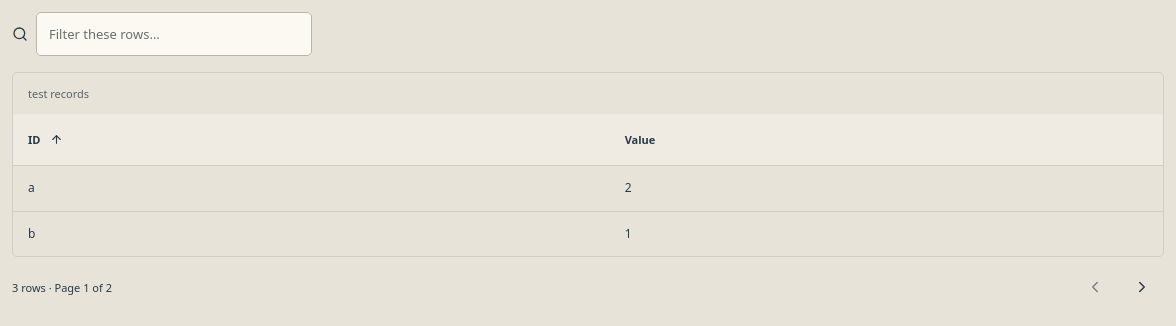
Test: workspace routes › filters, sorts and paginates local table rows
This screenshot has width=1176, height=326.
Click the button "Value" at (640, 140), box [625, 127, 655, 152]
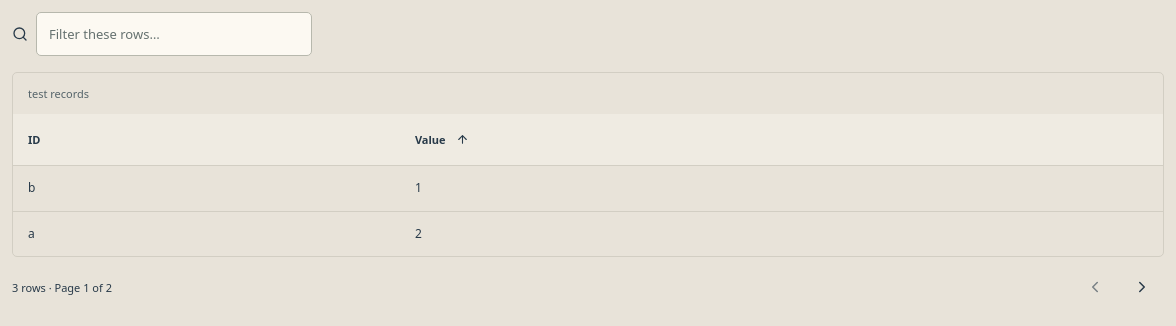
Expected: the row "b 1" is shown, [13, 166, 1163, 211]
Click the button named "Next page" at (1142, 287), box [1120, 265, 1164, 309]
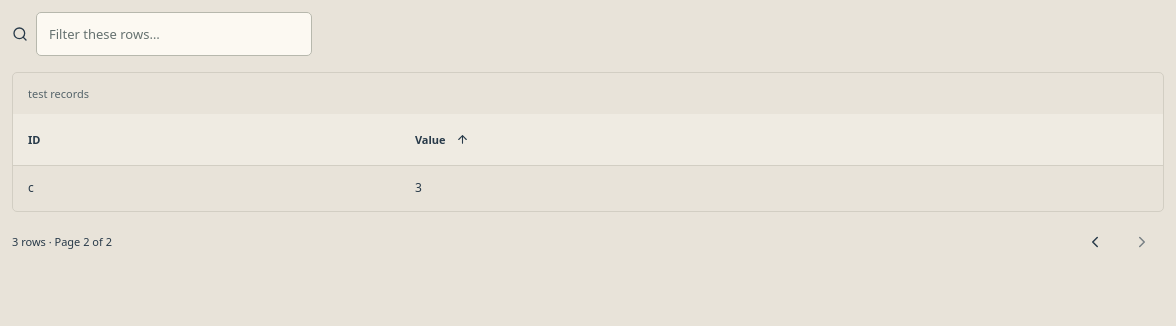
Expected: the text "c" is shown, [13, 166, 400, 211]
Type "no match" into the field at (174, 34), box [36, 12, 312, 56]
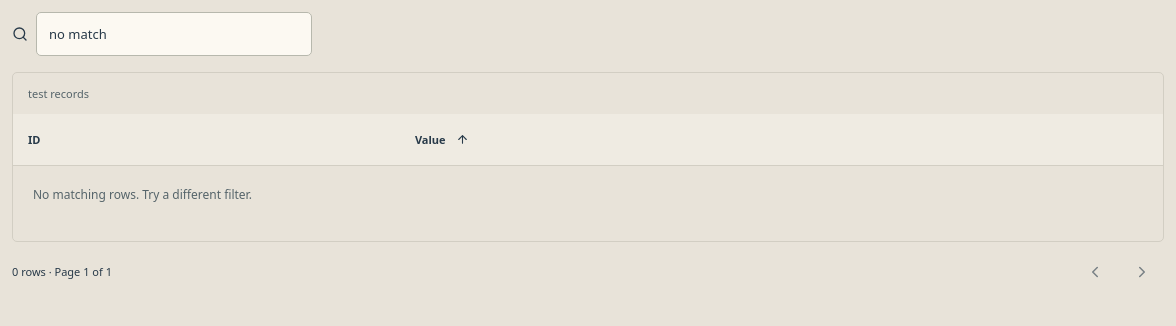
Expected: the text "No matching rows. Try a different filter." is shown, [33, 186, 252, 203]
